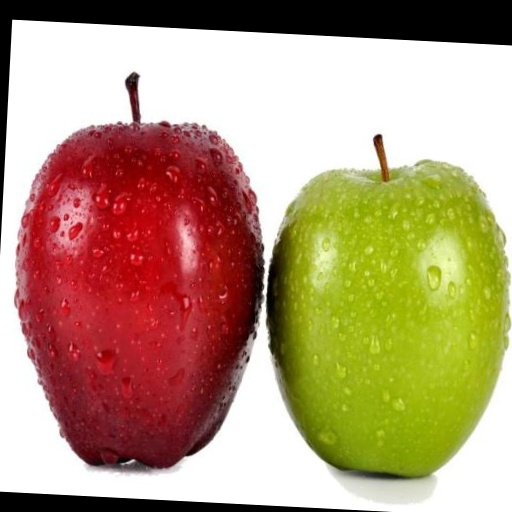fruit: (15, 74, 263, 467), (268, 136, 509, 476)
